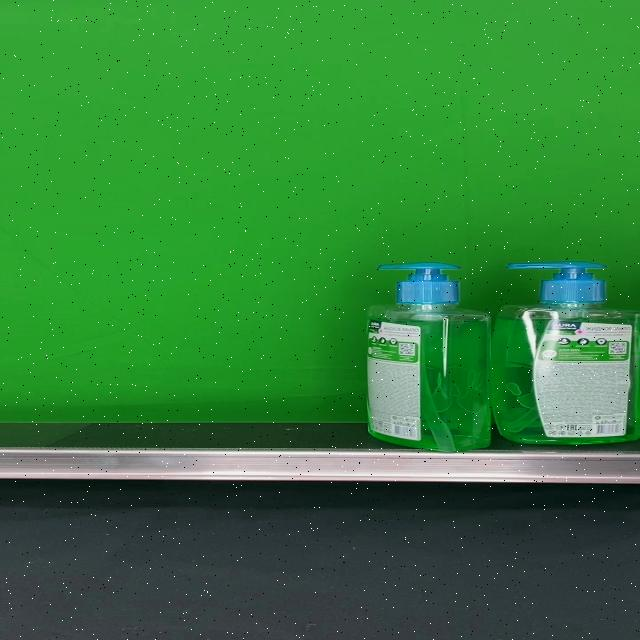Bottle: (492, 261, 640, 445), (364, 262, 490, 451)
Cap: (508, 262, 608, 304), (379, 263, 460, 304)
